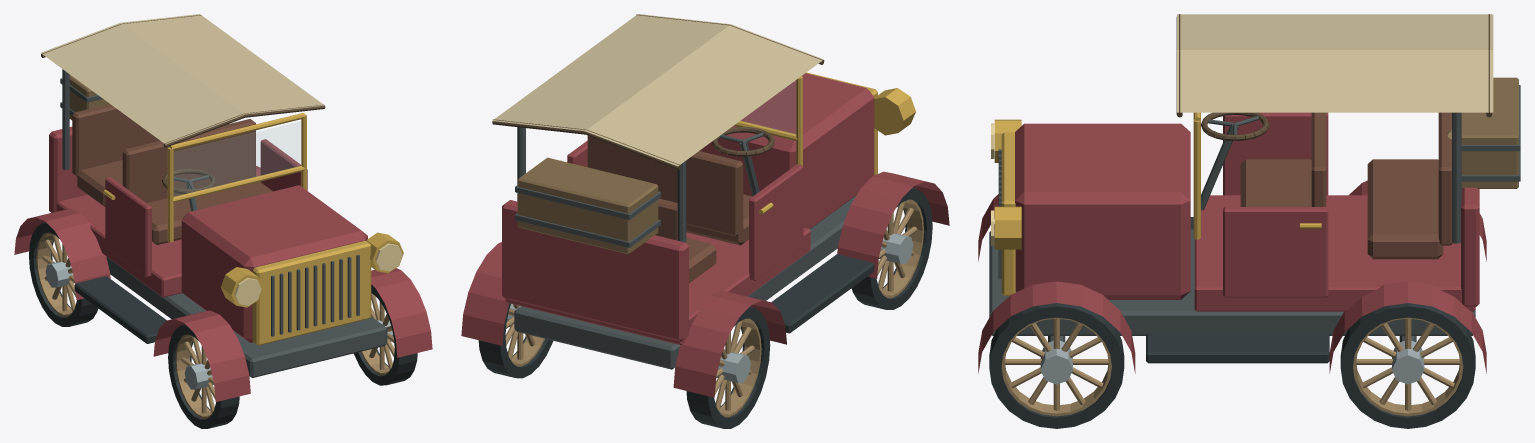
File: early-car.glb
The picture shows the model from 3 angles, left to right: view 1: azimuth 30°, elevation 25°; view 2: azimuth 150°, elevation 25°; view 3: azimuth 270°, elevation 25°; orthographic projection. The views are drawn at different scales.
Parts seen in each view (by area): view 1: TransportRoot_mesh, RollingWheel_mesh, RollingWheel.002_mesh, PassengerDoor_mesh, RollingWheel.001_mesh, PassengerDoor.001_mesh, Cargo_mesh, SteeringWheel_mesh; view 2: TransportRoot_mesh, Cargo_mesh, RollingWheel.002_mesh, RollingWheel_mesh, PassengerDoor_mesh, RollingWheel.003_mesh, SteeringWheel_mesh; view 3: TransportRoot_mesh, RollingWheel.001_mesh, RollingWheel.003_mesh, PassengerDoor.001_mesh, Cargo_mesh, PassengerDoor_mesh, SteeringWheel_mesh.
Part boxes in pixels (box(x1,y1,x2,y2)): TransportRoot_mesh: box(14, 14, 432, 401); RollingWheel_mesh: box(168, 324, 239, 428); RollingWheel.002_mesh: box(29, 222, 98, 326); PassengerDoor_mesh: box(103, 177, 151, 276); RollingWheel.001_mesh: box(353, 284, 417, 385); PassengerDoor.001_mesh: box(260, 139, 307, 191); Cargo_mesh: box(60, 74, 109, 120); SteeringWheel_mesh: box(162, 168, 215, 193); TransportRoot_mesh: box(461, 14, 949, 397); Cargo_mesh: box(515, 157, 660, 254); RollingWheel.002_mesh: box(686, 307, 770, 428); RollingWheel_mesh: box(851, 188, 932, 309); PassengerDoor_mesh: box(749, 164, 803, 280); RollingWheel.003_mesh: box(478, 303, 553, 378); SteeringWheel_mesh: box(711, 127, 774, 156); TransportRoot_mesh: box(978, 14, 1493, 373); RollingWheel.001_mesh: box(989, 303, 1124, 428); RollingWheel.003_mesh: box(1340, 303, 1475, 428); PassengerDoor.001_mesh: box(1223, 207, 1328, 297); Cargo_mesh: box(1447, 77, 1520, 188); PassengerDoor_mesh: box(1223, 112, 1328, 195); SteeringWheel_mesh: box(1201, 112, 1269, 140).
Bounding box in the file's own units: 1.2 × 1.3 × 2.01.
